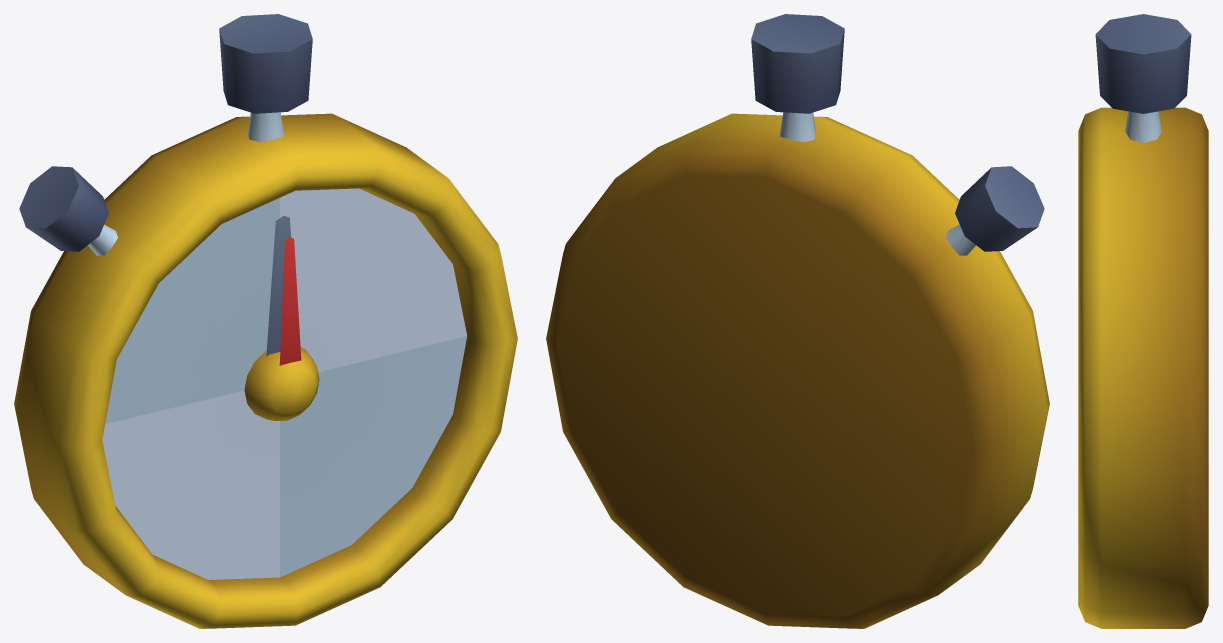
Rendered from Fbx_Stopwatch.fbx.
3 renders of one model, left to right at view 1: azimuth 30°, elevation 25°; view 2: azimuth 150°, elevation 25°; view 3: azimuth 270°, elevation 25°, orthographic.
Visible parts, largest first — view 1: Body, Main Button, Reset Button, Second Hand, Minute Hand; view 2: Body, Main Button, Reset Button; view 3: Body, Main Button.
Part boxes in pixels (x1=…): Body: x1=14, y1=113, x2=517, y2=628; Main Button: x1=219, y1=14, x2=312, y2=142; Reset Button: x1=19, y1=166, x2=117, y2=255; Second Hand: x1=279, y1=237, x2=301, y2=365; Minute Hand: x1=266, y1=216, x2=291, y2=356; Body: x1=546, y1=113, x2=1049, y2=628; Main Button: x1=751, y1=14, x2=844, y2=142; Reset Button: x1=946, y1=166, x2=1044, y2=255; Body: x1=1078, y1=107, x2=1208, y2=628; Main Button: x1=1095, y1=14, x2=1191, y2=142.
Size of the model in its own units: 2.05 by 2.41 by 0.5.
